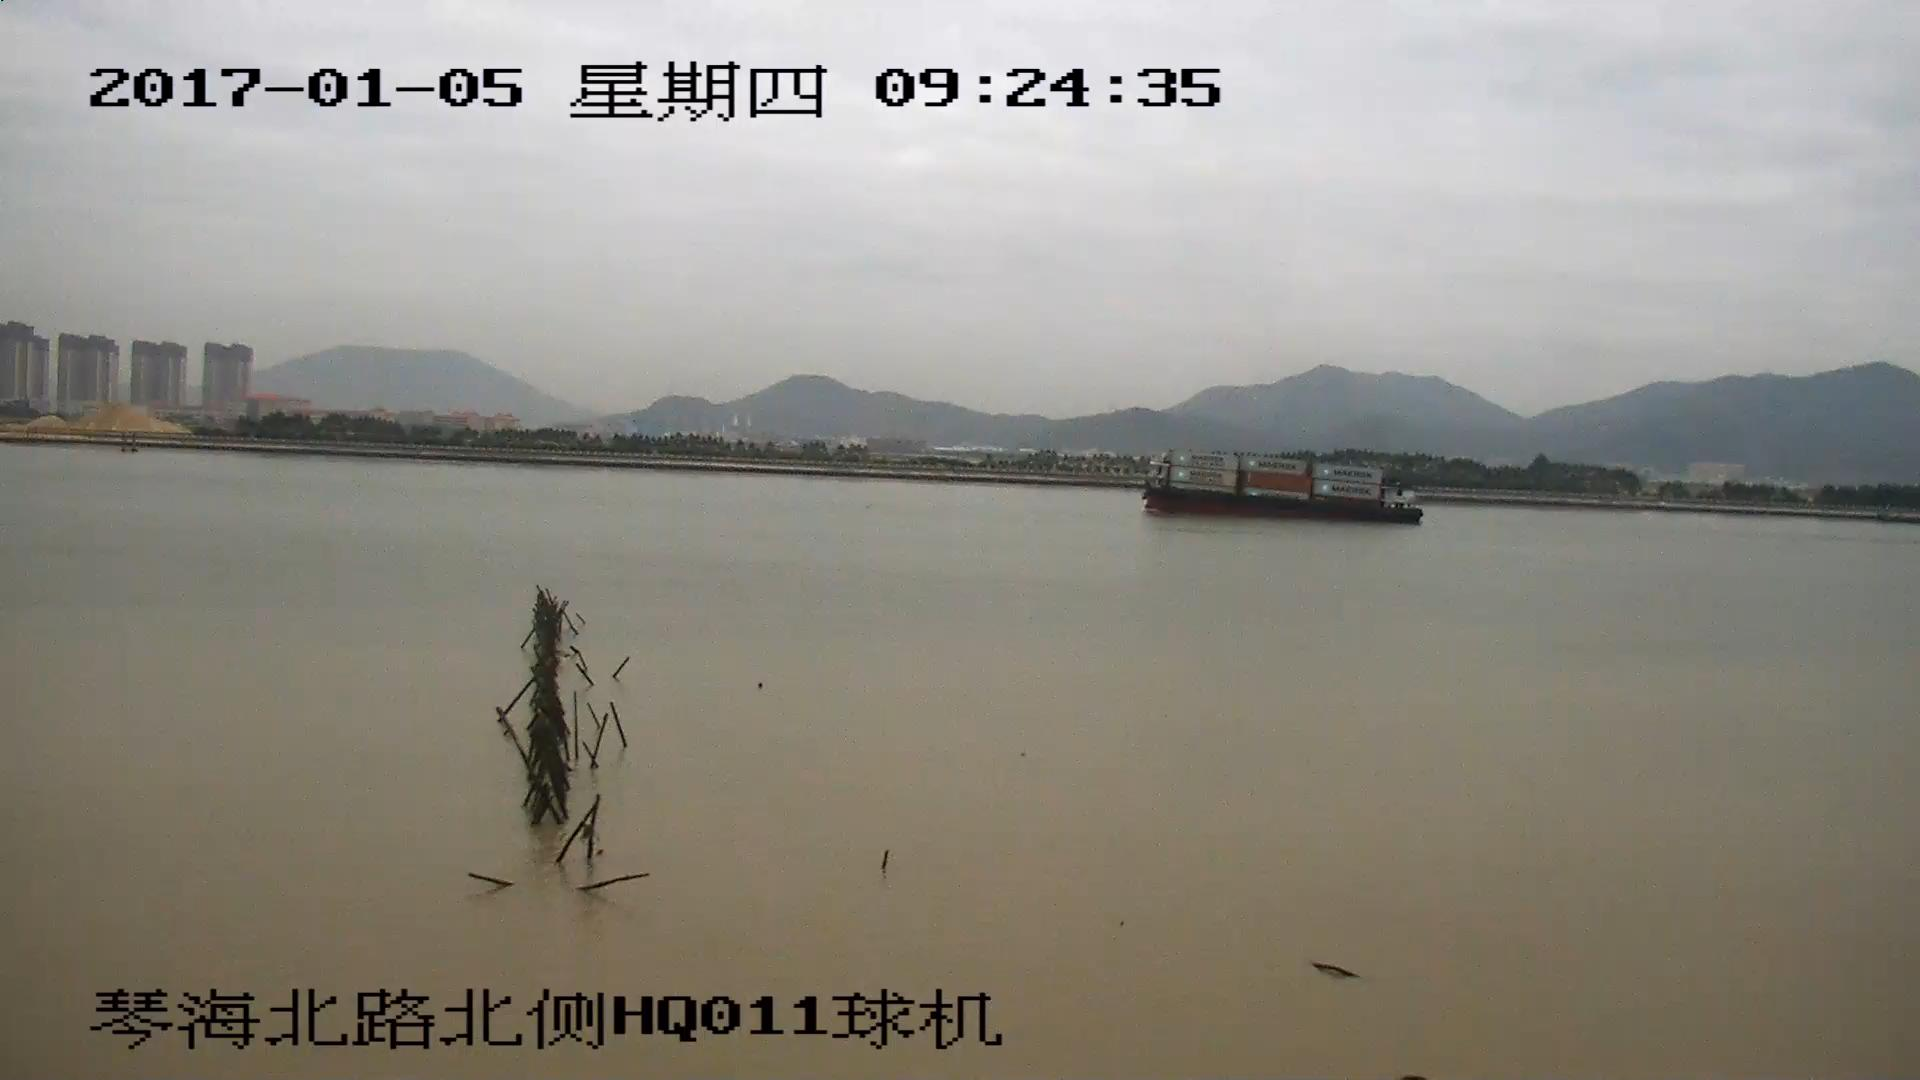container ship: (1140, 452, 1417, 523)
